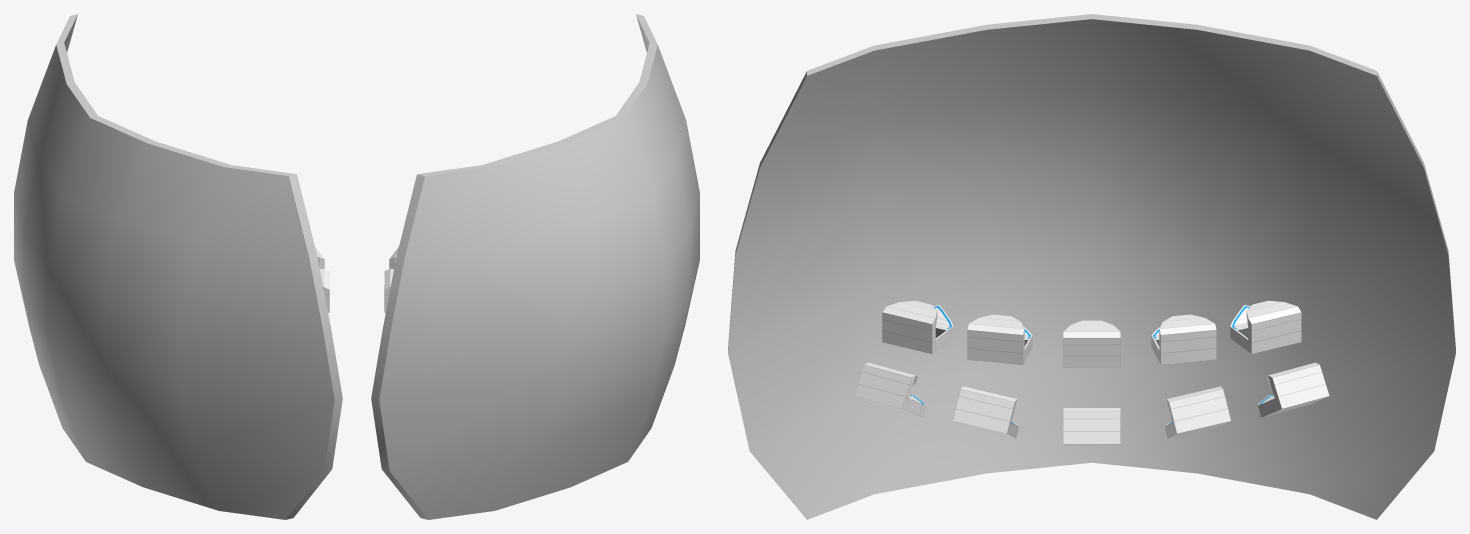
Rendered from steamship_interior.fbx.
The picture shows the model from 3 angles, left to right: view 1: azimuth 30°, elevation 25°; view 2: azimuth 150°, elevation 25°; view 3: azimuth 270°, elevation 25°; orthographic projection. The views are drawn at different scales.
Parts seen in each view (by area): view 1: pCube1; view 2: pCube1; view 3: pCube1, pCube4, pCube6, pCube3, pCube5, pCube2, pCube7, pCube11, pCube8, pCube10, pCube9.
Boxes of the visible parts, left/top/right/bottom form: pCube1: left=14, top=14, right=342, bottom=519; pCube1: left=371, top=14, right=699, bottom=519; pCube1: left=728, top=14, right=1455, bottom=519; pCube4: left=882, top=300, right=953, bottom=353; pCube6: left=1230, top=300, right=1301, bottom=353; pCube3: left=967, top=314, right=1032, bottom=364; pCube5: left=1151, top=314, right=1216, bottom=364; pCube2: left=1063, top=320, right=1120, bottom=367; pCube7: left=854, top=362, right=925, bottom=417; pCube11: left=1258, top=362, right=1329, bottom=417; pCube8: left=953, top=386, right=1018, bottom=438; pCube10: left=1165, top=386, right=1230, bottom=438; pCube9: left=1063, top=408, right=1120, bottom=446.
Size of the model in its own units: 44.42 by 60.3 by 89.14.
2 materials, 1 textured.
